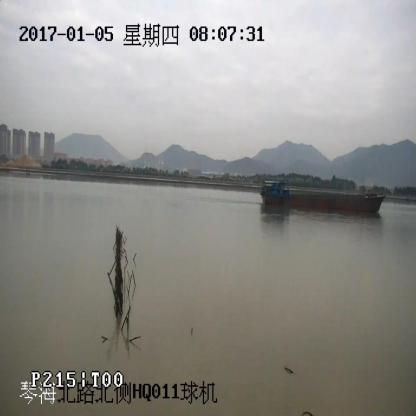Bulk Carrier: (258, 180, 384, 213)
